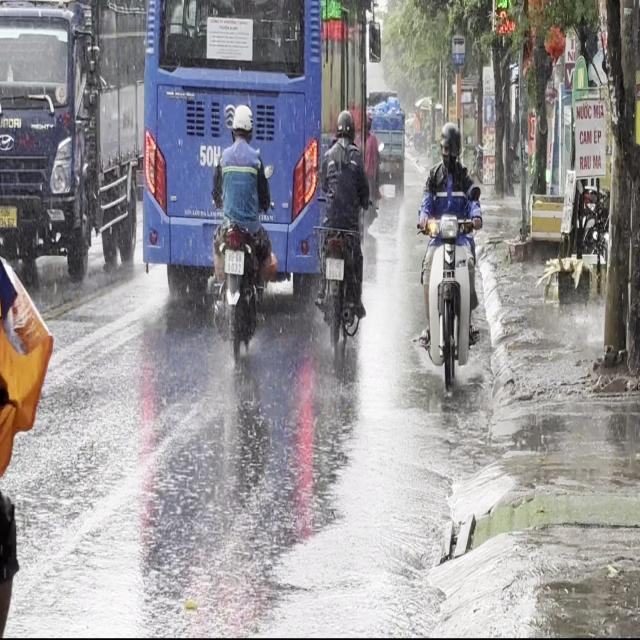helmet: (439, 120, 462, 164), (230, 102, 252, 140), (335, 108, 354, 141)
licenseplate: (414, 115, 487, 384), (210, 101, 276, 352), (310, 105, 371, 359)
nohelmet: (224, 250, 243, 273), (326, 257, 344, 279)
